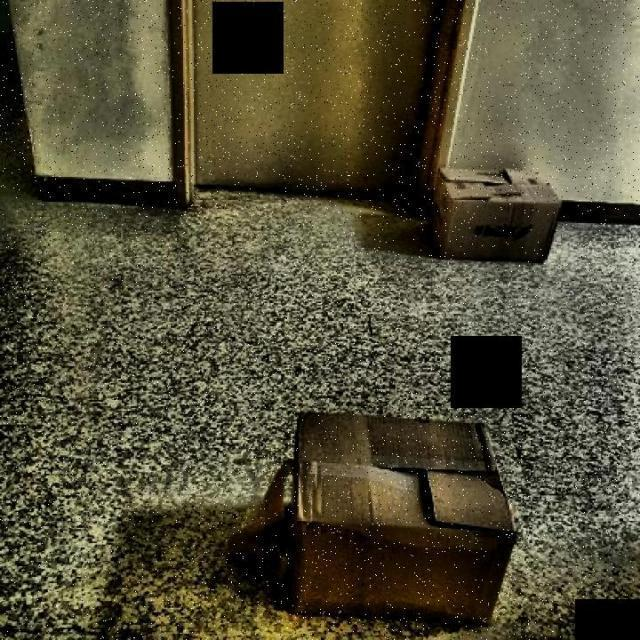box: (264, 391, 532, 628)
